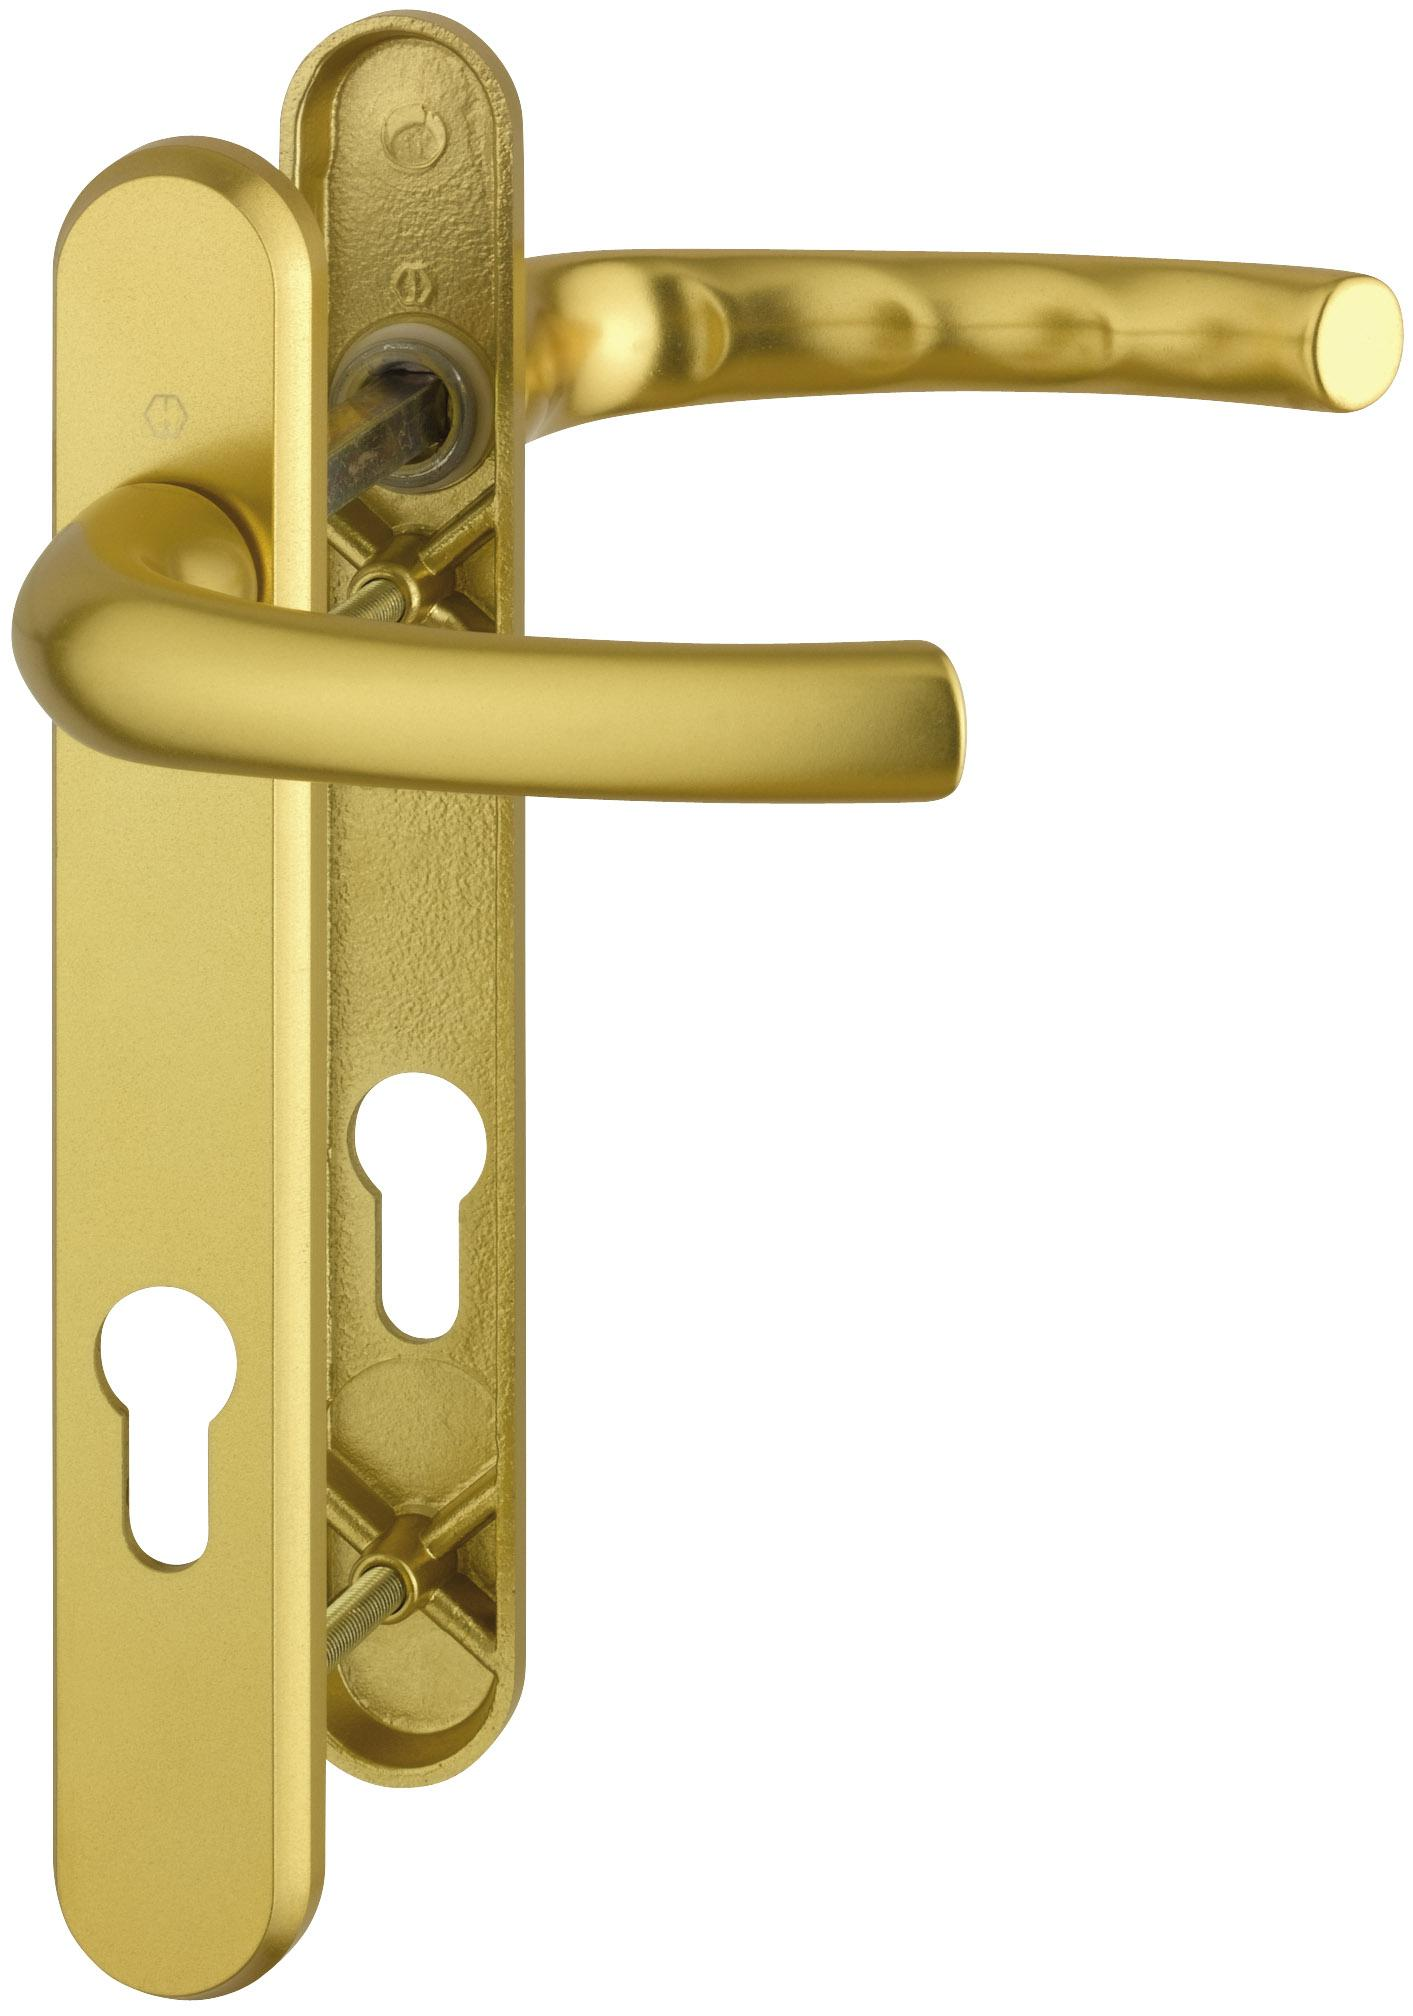doorhandle: (21, 401, 1156, 859)
